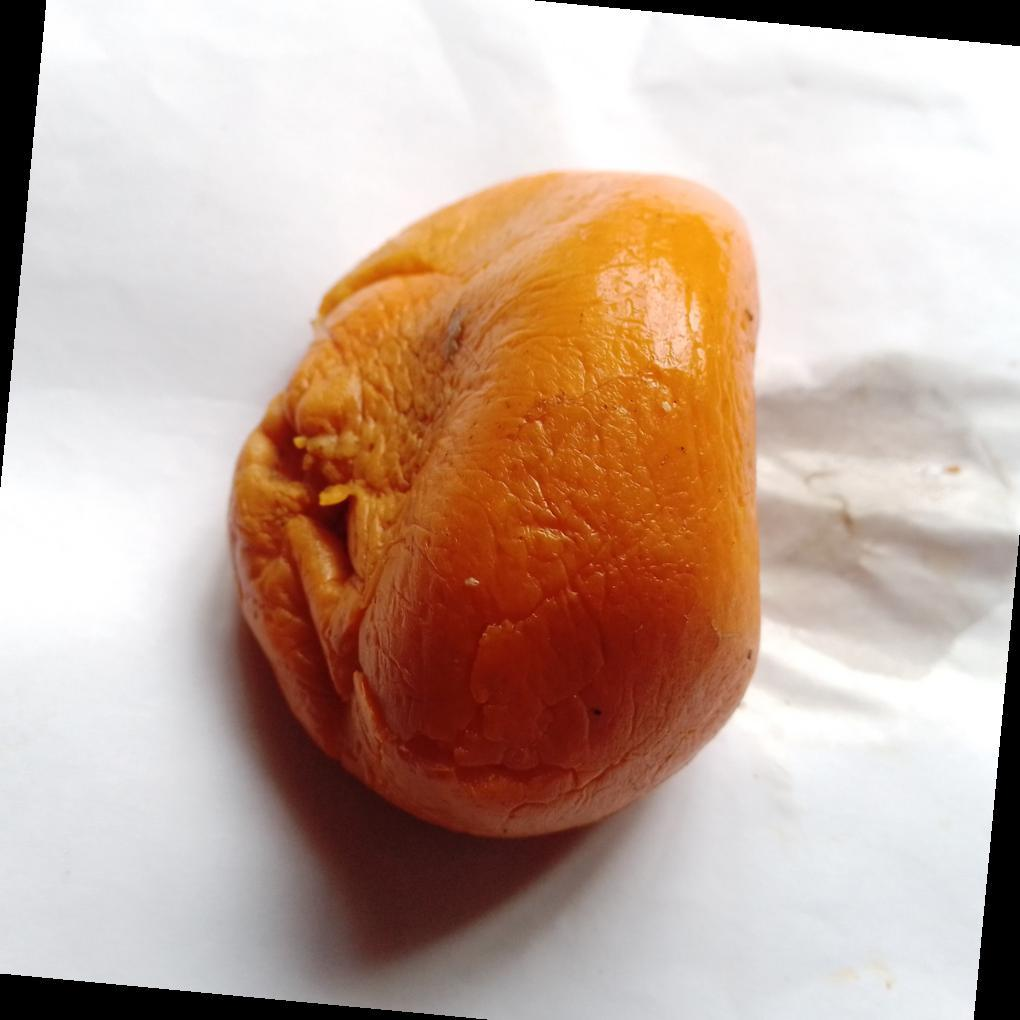FreshOrange: (227, 170, 764, 845)
